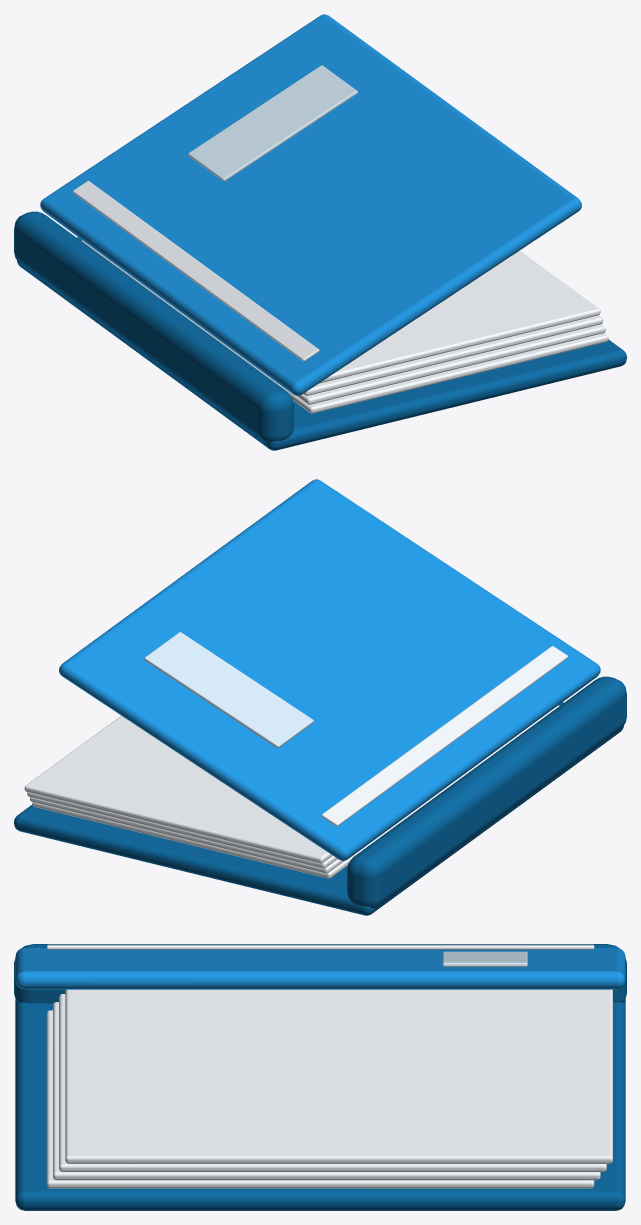
Rendered from document-folder.glb.
The picture shows the model from 3 angles, top to bottom: view 1: azimuth 30°, elevation 25°; view 2: azimuth 150°, elevation 25°; view 3: azimuth 270°, elevation 25°; orthographic projection. The views are drawn at different scales.
Parts seen in each view (by area): view 1: Обложка, Лист (×4), Корешок, Задняя обложка, Поле маркировки, Полоса обложки; view 2: Обложка, Лист (×4), Корешок, Задняя обложка, Поле маркировки, Полоса обложки; view 3: Лист (×4), Обложка, Задняя обложка, Полоса обложки, Корешок, Поле маркировки.
Boxes of the visible parts, x1,y1,x2,y2 form: Обложка: [40, 14, 581, 395]; Лист (×4): [81, 240, 608, 413]; Корешок: [14, 211, 293, 443]; Задняя обложка: [17, 237, 626, 450]; Поле маркировки: [188, 65, 357, 181]; Полоса обложки: [72, 181, 319, 361]; Обложка: [59, 479, 600, 860]; Лист (×4): [24, 705, 559, 878]; Корешок: [347, 676, 626, 908]; Задняя обложка: [14, 702, 623, 915]; Поле маркировки: [144, 632, 313, 748]; Полоса обложки: [321, 646, 568, 826]; Лист (×4): [46, 989, 612, 1188]; Обложка: [15, 948, 625, 989]; Задняя обложка: [15, 1000, 625, 1210]; Полоса обложки: [46, 944, 594, 949]; Корешок: [14, 944, 626, 1003]; Поле маркировки: [442, 951, 527, 966].
Size of the model in its own units: 1.76 by 0.8255 by 2.16.
